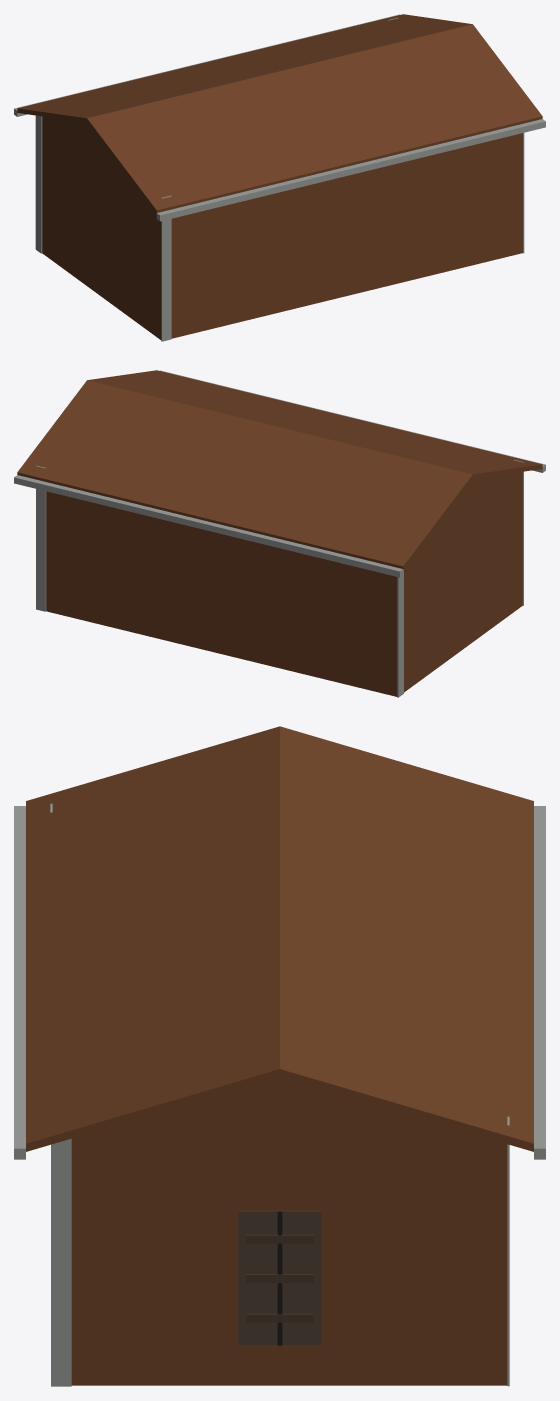
File: context.farm.tin_shed.glb
3 views of the same model, one above another, from view 1: azimuth 30°, elevation 25°; view 2: azimuth 150°, elevation 25°; view 3: azimuth 270°, elevation 25° (orthographic). The views are drawn at different scales.
Parts seen in each view (by area): view 1: main__clad_742, main__steel_999; view 2: main__clad_742, main__steel_999; view 3: main__clad_742, main__steel_999, main__timber_543, main__timber_433.
Boxes of the visible parts, box(x1,y1,x2,y2) form: main__clad_742: box(17, 14, 542, 339); main__steel_999: box(14, 14, 545, 341); main__clad_742: box(17, 370, 542, 696); main__steel_999: box(14, 370, 545, 697); main__clad_742: box(26, 726, 533, 1385); main__steel_999: box(14, 803, 545, 1386); main__timber_543: box(238, 1210, 321, 1344); main__timber_433: box(246, 1234, 313, 1322).
Bounding box in the file's own units: 10.7 × 4.77 × 7.02.
